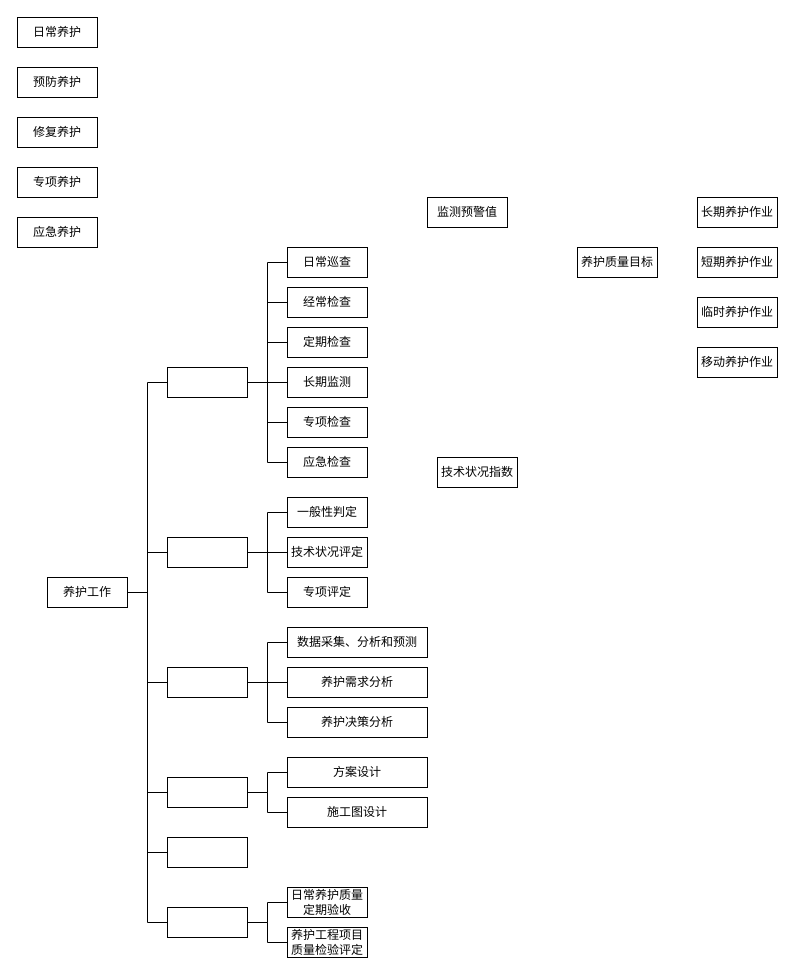
This 795x975 diagram has some shape labels left out. Here are the shapes that lost their labels. From the top down, the centre of each, then its label:
[207,382]: 路况检查
[207,552]: 路况评定
[207,682]: 养护决策
[207,792]: 养护设计
[207,852]: 养护作业
[207,922]: 养护质量 检验评定
